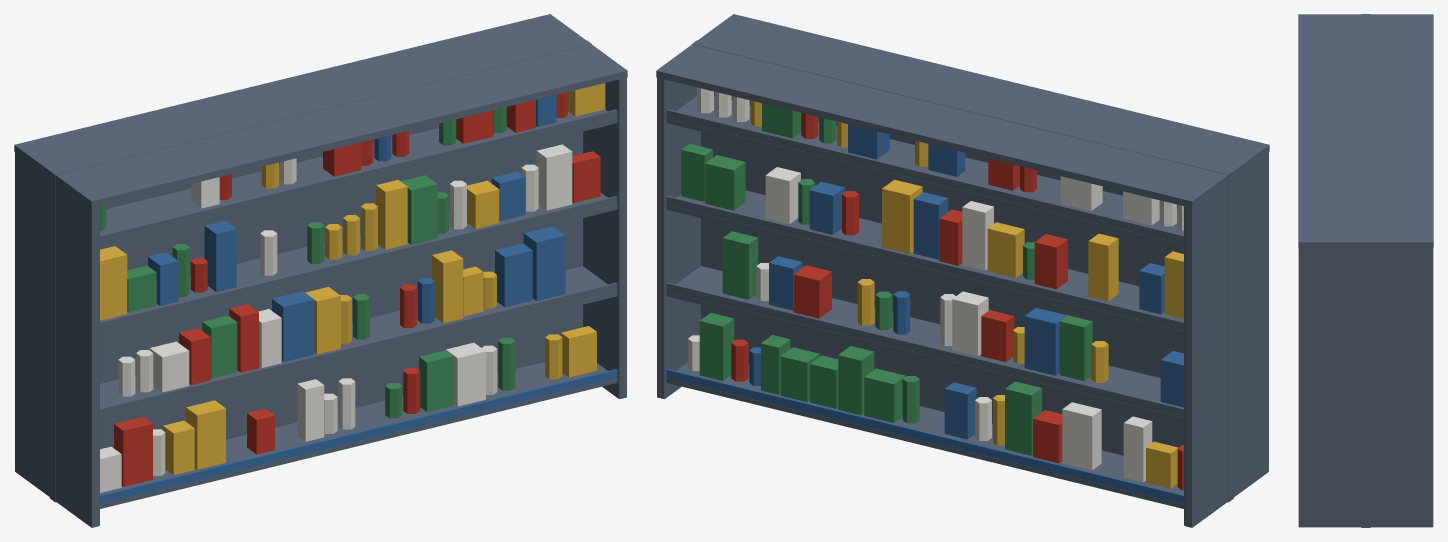
The model's file is shelf_b.glb.
3 views of the same model, side by side, from view 1: azimuth 30°, elevation 25°; view 2: azimuth 150°, elevation 25°; view 3: azimuth 270°, elevation 25° (orthographic). The views are drawn at different scales.
Parts seen in each view (by area): view 1: shelf_b; view 2: shelf_b; view 3: shelf_b.
Part boxes in pixels (box(x1,y1,x2,y2)): shelf_b: box(14, 14, 627, 527); shelf_b: box(656, 14, 1269, 527); shelf_b: box(1298, 14, 1433, 527).
Bounding box in the file's own units: 2.4 × 1.4 × 0.6.
